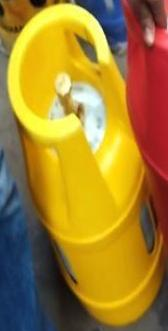cylinder: (1, 1, 168, 331)
